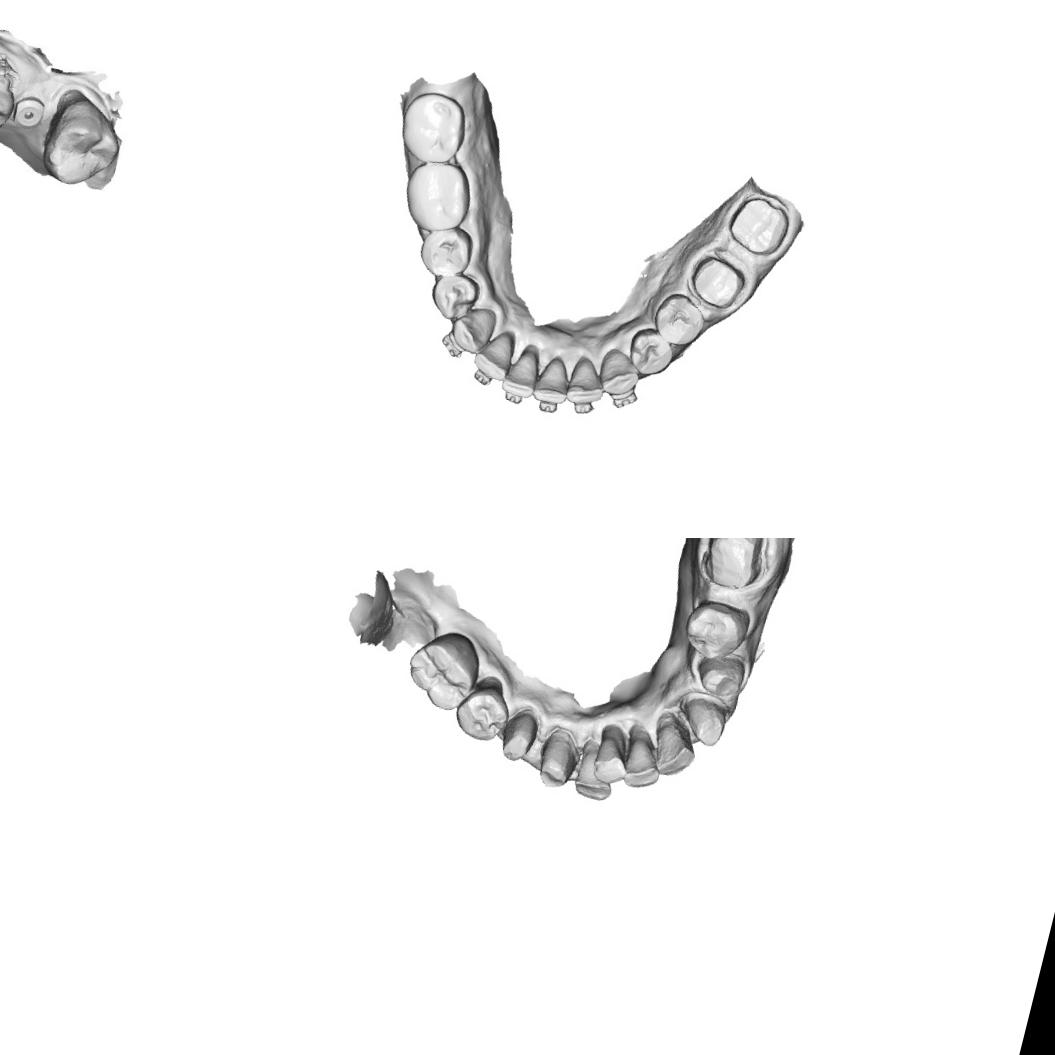canine: (446, 300, 498, 357), (594, 344, 644, 400)
crown: (718, 187, 796, 264), (687, 538, 771, 600), (680, 246, 752, 318), (531, 726, 585, 794), (674, 690, 732, 751), (689, 645, 750, 702), (494, 707, 543, 766)
implant: (10, 88, 50, 134)
incisor: (647, 722, 700, 781), (569, 742, 620, 803), (618, 735, 668, 794), (469, 324, 517, 382), (564, 353, 610, 409), (588, 732, 634, 788), (499, 344, 543, 400), (530, 352, 574, 407)
molar: (31, 86, 129, 196), (398, 620, 488, 716), (396, 152, 478, 238), (392, 85, 472, 170), (678, 594, 754, 668)
premolar: (448, 678, 516, 747), (414, 219, 477, 283), (648, 287, 710, 350), (425, 266, 482, 324), (623, 323, 678, 381), (0, 59, 21, 151)
